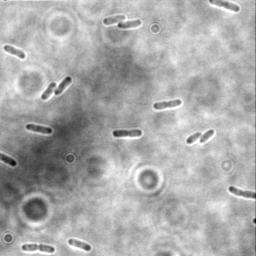Dividing: (227, 185, 255, 200), (21, 242, 56, 254), (207, 1, 241, 13), (152, 98, 183, 111), (112, 128, 143, 139)
Rod: (54, 76, 73, 96), (25, 122, 54, 135), (4, 43, 26, 60), (68, 238, 93, 252), (103, 13, 127, 27), (41, 81, 57, 101), (199, 128, 216, 145), (186, 131, 203, 146), (117, 19, 143, 28)
